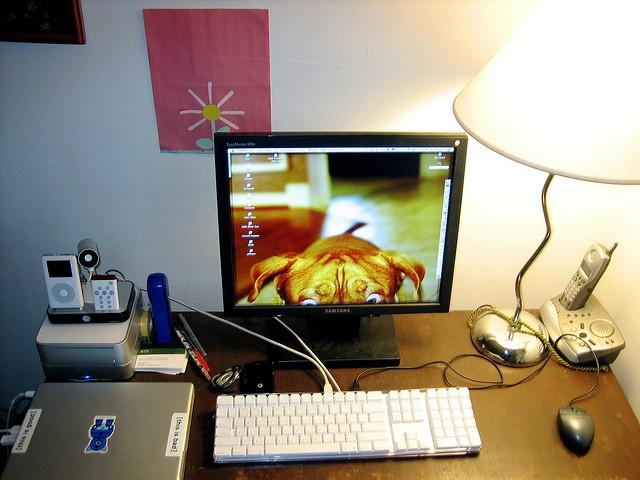AIO PC-Monitor-TV: (212, 130, 469, 317)
